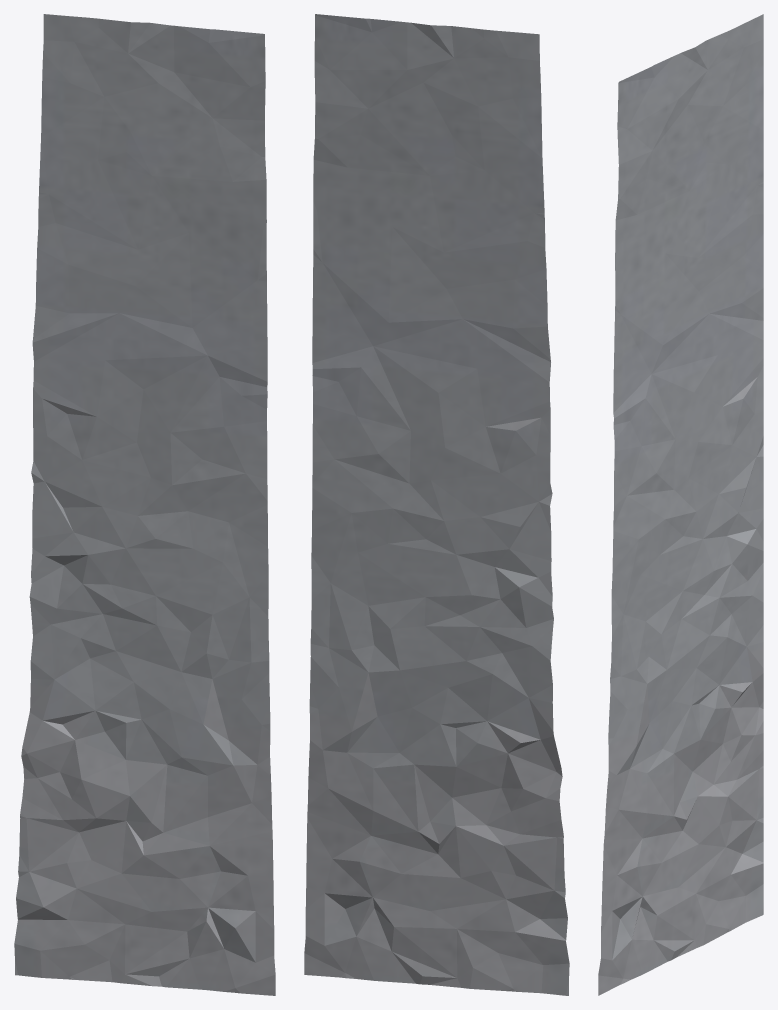
The picture shows the model from 3 angles, left to right: view 1: azimuth 30°, elevation 25°; view 2: azimuth 210°, elevation 25°; view 3: azimuth 270°, elevation 25°; orthographic projection. The views are drawn at different scales.
Bounding box in the file's own units: 0.1606 × 0.8374 × 0.1375.
1 material, 1 textured.
